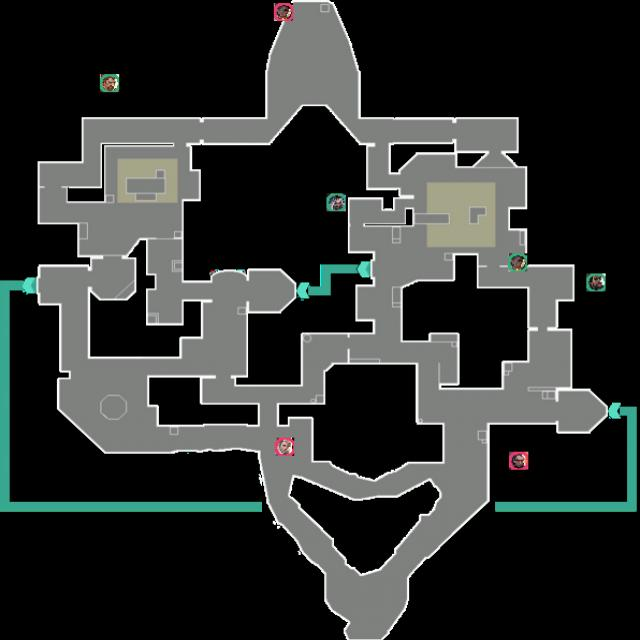atk_phoenix: (274, 3, 293, 21)
atk_reyna: (509, 452, 528, 469)
atk_sova: (275, 438, 294, 456)
def_breach: (100, 74, 119, 92)
def_fade: (326, 194, 346, 212)
def_harbor: (586, 274, 606, 292)
def_phoenix: (508, 254, 527, 272)
